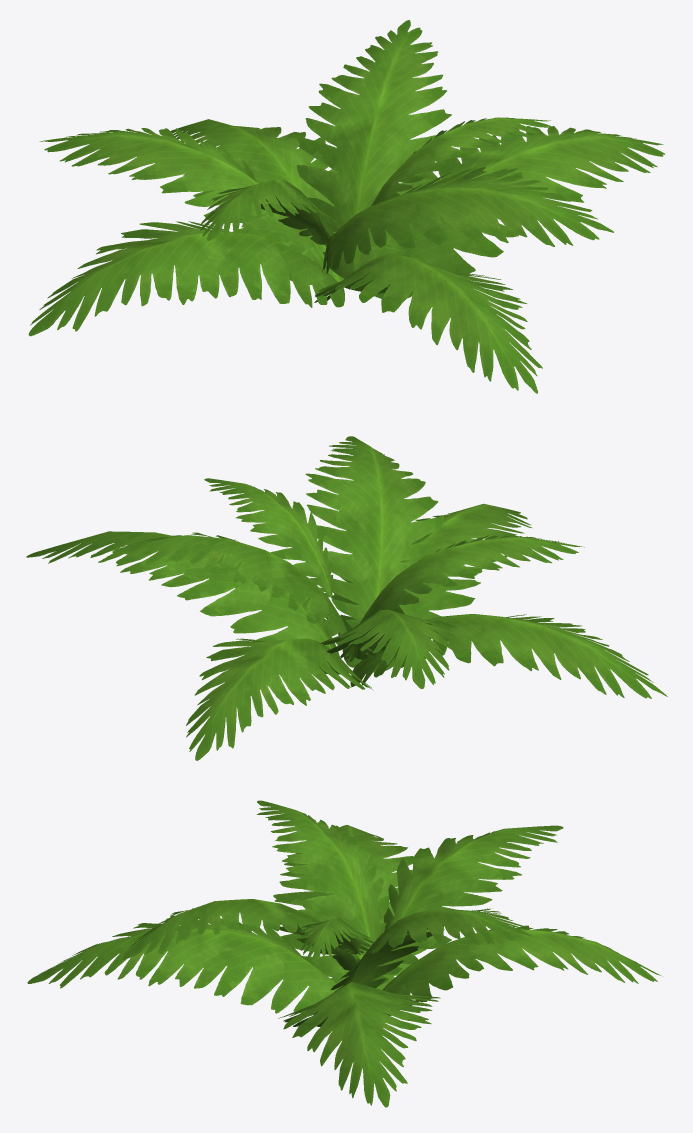
The model's file is Fern_1.gltf.
3 renders of one model, top to bottom at view 1: azimuth 30°, elevation 25°; view 2: azimuth 150°, elevation 25°; view 3: azimuth 270°, elevation 25°, orthographic. The views are drawn at different scales.
Parts seen in each view (by area): view 1: Fern_1; view 2: Fern_1; view 3: Fern_1.
Boxes of the visible parts, <box> form: Fern_1: <box>28,20,665,393</box>; Fern_1: <box>26,436,667,760</box>; Fern_1: <box>27,800,662,1107</box>.
Size of the model in its own units: 2.83 by 0.6878 by 2.65.
1 material, 1 textured.
